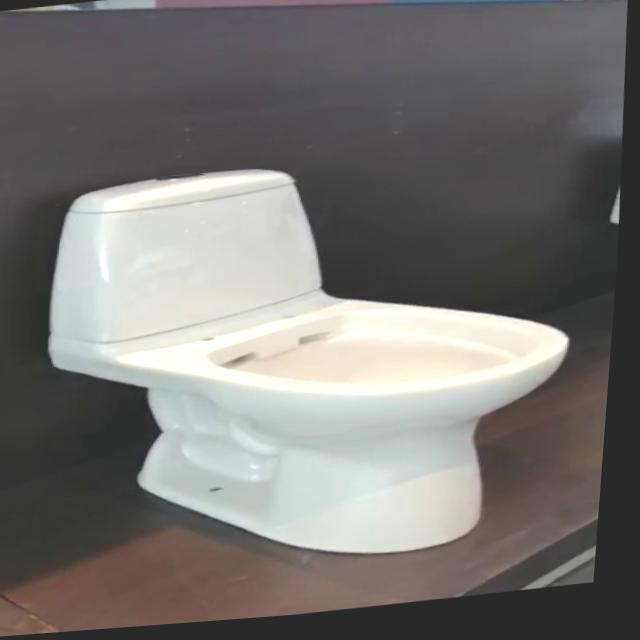toilet: (32, 137, 593, 594)
